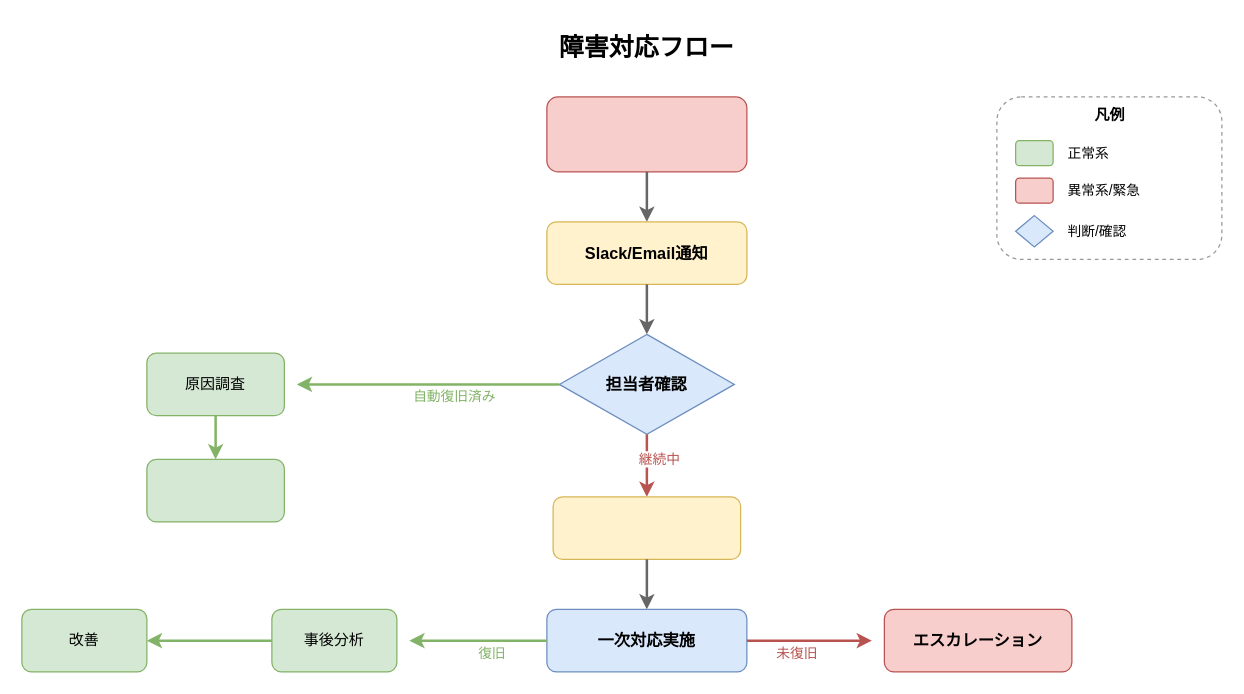
This 1244x694 diagram has some shape labels left out. Each missing label, with the box of its shape:
再発防止策: (146, 458, 284, 522)
影響範囲確認: (552, 496, 741, 559)
障害検知 (CloudWatch Alarm): (546, 96, 747, 172)
